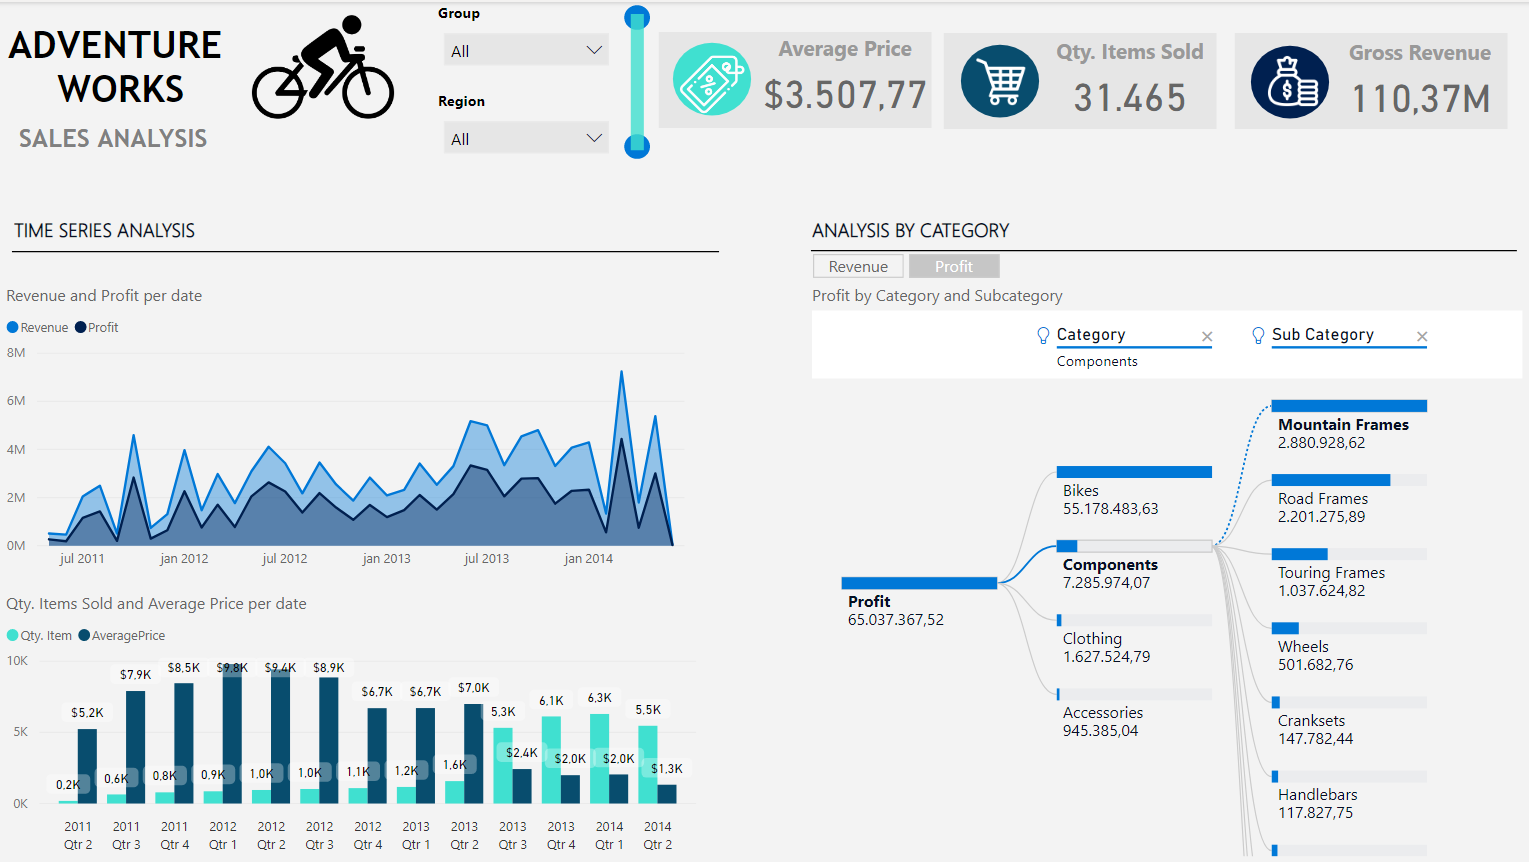

The dashboard page shown, as its layout file describes it:
{"tool":"powerbi","page":{"name":"Revenue","canvas":[1280,720],"ordinal":0},"visuals":[{"type":"basicShape","box":[520.4,0,27.2,26.2],"z":0,"group":"g1"},{"type":"textbox","box":[0,11.7,202.2,84.6],"z":0},{"type":"basicShape","box":[559.8,31.1,71.9,67.1],"z":0,"group":"g2"},{"type":"basicShape","box":[800.9,33,71.9,67.1],"z":0,"group":"g3"},{"type":"basicShape","box":[1043.8,33.3,71.9,67.1],"z":0,"group":"g4"},{"type":"image","box":[201.2,5.8,139,97.2],"z":1000},{"type":"image","box":[563.7,31.1,64.1,74.8],"z":1000,"group":"g2"},{"type":"image","box":[1056.6,34.9,52.5,62.2],"z":1000,"group":"g4"},{"type":"image","box":[804.8,41.3,64.1,50.5],"z":1000,"group":"g3"},{"type":"basicShape","box":[520.4,107.9,27.2,26.2],"z":1000,"group":"g1"},{"type":"basicShape","box":[519.4,0,29.2,134.1],"z":2000,"group":"g1"},{"type":"textbox","box":[10.9,96.3,180,37.7],"z":2000},{"type":"group","id":"g1","title":"Group 1","box":[519.4,0,29.3,134.1],"z":3000},{"type":"slicer","title":"Group","fields":{"Values":["fSalesDetails.Group"]},"box":[361.5,0,158.4,61.2],"z":4000},{"type":"slicer","title":"Region","fields":{"Values":["fSalesDetails.Name"]},"box":[361.5,73.9,158.4,67.1],"z":5000},{"type":"basicShape","box":[549.1,24.3,233.3,81.6],"z":6000},{"type":"card","title":"Average Price","fields":{"Values":["#Measure.AveragePrice"]},"box":[631.7,26.2,150.6,73.9],"z":7000},{"type":"group","id":"g2","title":"Group 2","box":[559.8,31.1,71.9,74.8],"z":8000},{"type":"basicShape","box":[788.2,25.3,233.3,81.6],"z":9000},{"type":"group","id":"g3","title":"Group 2","box":[800.9,33,71.9,67.1],"z":10000},{"type":"card","title":"Qty. Items Sold","fields":{"Values":["#Measure.Ticket"]},"box":[870.8,28.2,150.6,73.9],"z":11000},{"type":"basicShape","box":[1031.2,25.3,233.3,81.6],"z":12000},{"type":"card","title":"Gross Revenue","fields":{"Values":["#Measure.GrossRevenue"]},"box":[1113.8,29.2,150.6,73.9],"z":13000},{"type":"group","id":"g4","title":"Group 2","box":[1043.8,33.3,71.9,67.1],"z":14000},{"type":"areaChart","title":"Revenue and Profit per date","fields":{"Category":["fSalesDetails.Date.Variation.Date Hierarchy.Year","fSalesDetails.Date.Variation.Date Hierarchy.Quarter","fSalesDetails.Date.Variation.Date Hierarchy.Month","fSalesDetails.Date.Variation.Date Hierarchy.Day"],"Y":["#Measure.Revenue","#Measure.Profit"]},"box":[0,236.2,587.9,248.2],"z":15000},{"type":"clusteredColumnChart","title":"Qty. Items Sold and Average Price per date","fields":{"Category":["fSalesDetails.Date.Variation.Date Hierarchy.Year","fSalesDetails.Date.Variation.Date Hierarchy.Quarter","fSalesDetails.Date.Variation.Date Hierarchy.Month","fSalesDetails.Date.Variation.Date Hierarchy.Day"],"Y":["#Measure.Ticket","#Measure.AveragePrice"]},"box":[0,494,588,226],"z":16000},{"type":"textbox","box":[7.1,175.1,193.8,33.8],"z":17000},{"type":"basicShape","box":[0,194.7,611.6,27.6],"z":18000},{"type":"basicShape","box":[668.9,194.2,611.2,27.6],"z":19000},{"type":"textbox","box":[674.8,175,194.2,33.5],"z":20000},{"type":"decompositionTreeVisual","title":"Profit by Category and Subcategory","fields":{"ExplainBy":["fSalesDetails.Category","fSalesDetails.SubCategory"],"Analyze":["#Measure.Profit"]},"box":[674.9,236.2,605.1,483.6],"z":21500},{"type":"actionButton","title":"Revenue Off","box":[680.9,211.2,75.9,19.8],"z":22000},{"type":"actionButton","title":"Profit On","box":[760.8,210.8,75.9,19.8],"z":24000}]}

Visuals, with their boxes in screenshot pixels (x1, y1, x2, y2), scaled from the page's 1280x720 canvas onto the 1529x862 screenshot:
basicShape: region(622, 0, 654, 31)
textbox: region(0, 14, 242, 115)
basicShape: region(669, 37, 755, 118)
basicShape: region(957, 40, 1043, 120)
basicShape: region(1247, 40, 1333, 120)
image: region(240, 7, 406, 123)
image: region(673, 37, 750, 127)
image: region(1262, 42, 1325, 116)
image: region(961, 49, 1038, 110)
basicShape: region(622, 129, 654, 161)
basicShape: region(620, 0, 655, 161)
textbox: region(13, 115, 228, 160)
"Group 1" group: region(620, 0, 655, 161)
"Group" slicer: region(432, 0, 621, 73)
"Region" slicer: region(432, 88, 621, 169)
basicShape: region(656, 29, 935, 127)
"Average Price" card: region(755, 31, 934, 120)
"Group 2" group: region(669, 37, 755, 127)
basicShape: region(942, 30, 1220, 128)
"Group 2" group: region(957, 40, 1043, 120)
"Qty. Items Sold" card: region(1040, 34, 1220, 122)
basicShape: region(1232, 30, 1510, 128)
"Gross Revenue" card: region(1330, 35, 1510, 123)
"Group 2" group: region(1247, 40, 1333, 120)
"Revenue and Profit per date" areaChart: region(0, 283, 702, 580)
"Qty. Items Sold and Average Price per date" clusteredColumnChart: region(0, 591, 702, 861)
textbox: region(8, 210, 240, 250)
basicShape: region(0, 233, 731, 266)
basicShape: region(799, 233, 1528, 266)
textbox: region(806, 210, 1038, 250)
"Profit by Category and Subcategory" decompositionTreeVisual: region(806, 283, 1528, 861)
"Revenue Off" actionButton: region(813, 253, 904, 277)
"Profit On" actionButton: region(909, 252, 999, 276)
